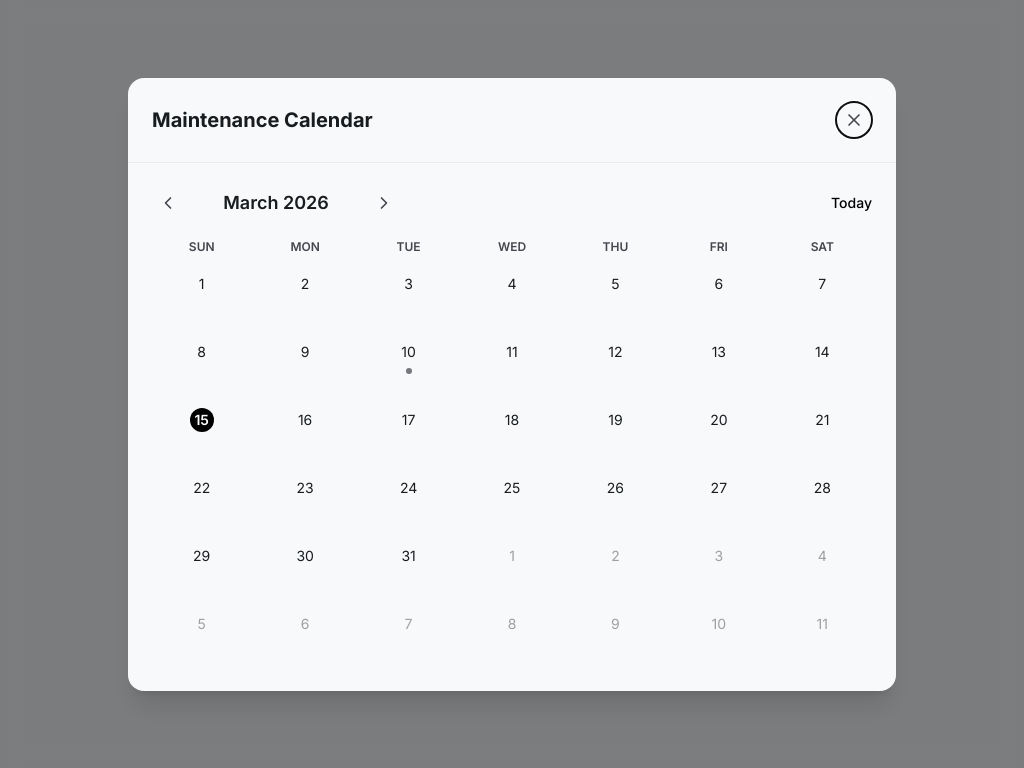
Test case: MaintenanceCalendarModal — day detail › drops the day selection when the month changes
Click the 1st button "10" at (408, 362), box [359,330,458,394]
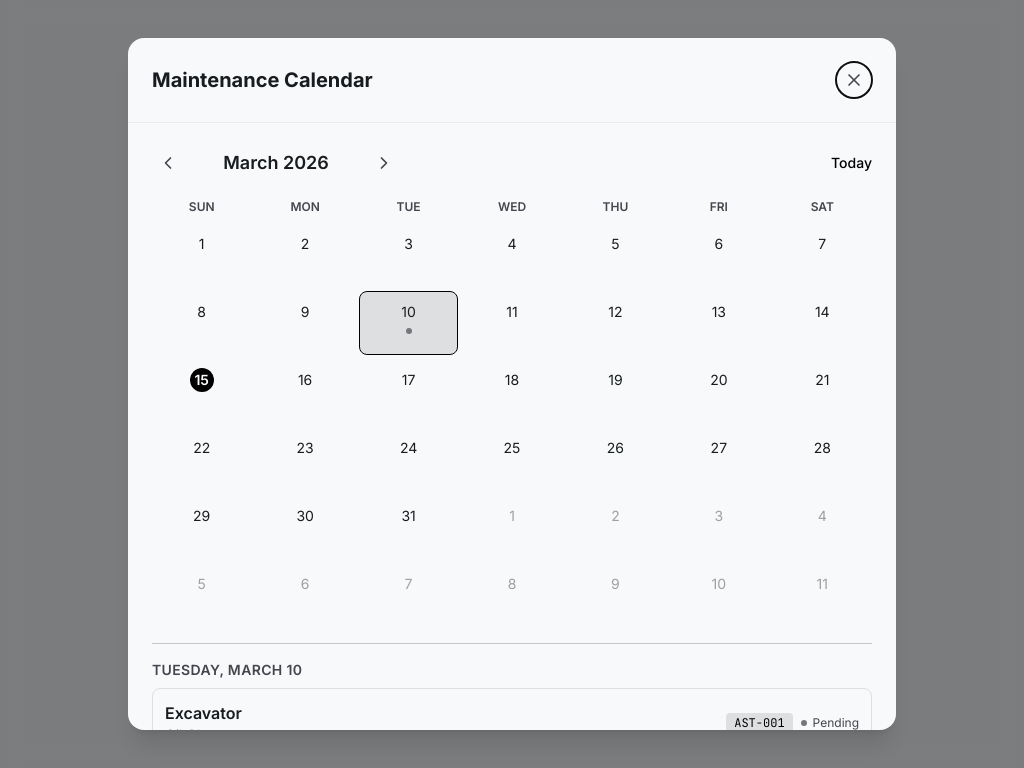
Click the button named "Next month" at (384, 163), box [368,147,400,179]
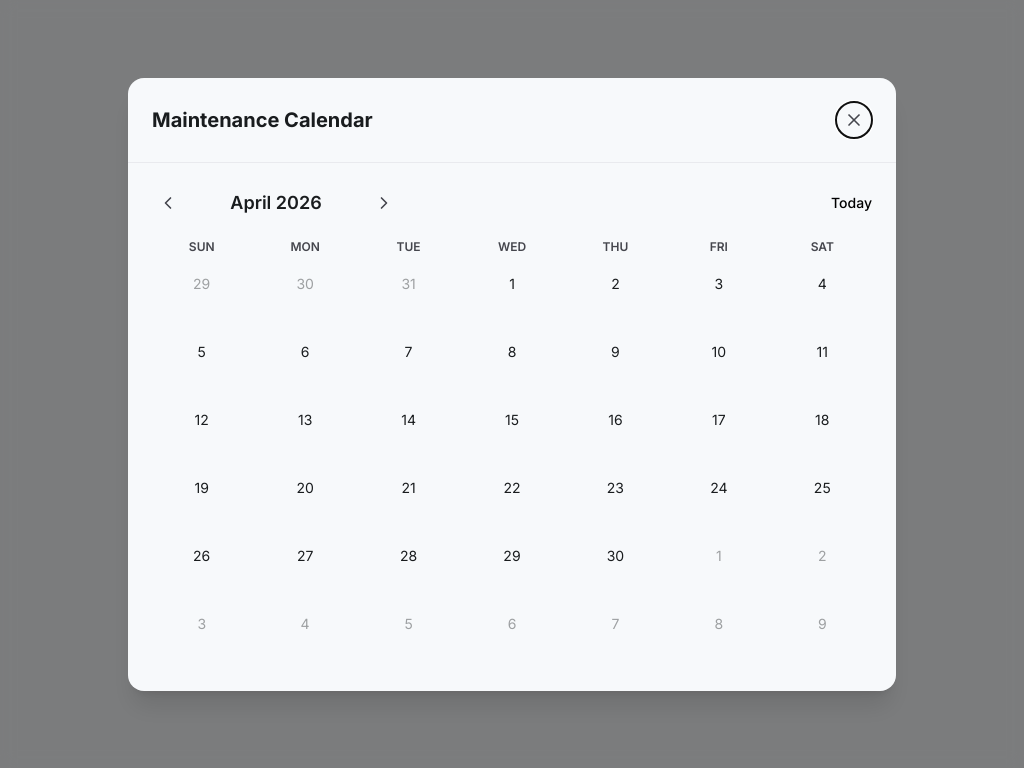
expect the button "Oil Change" is gone: met
